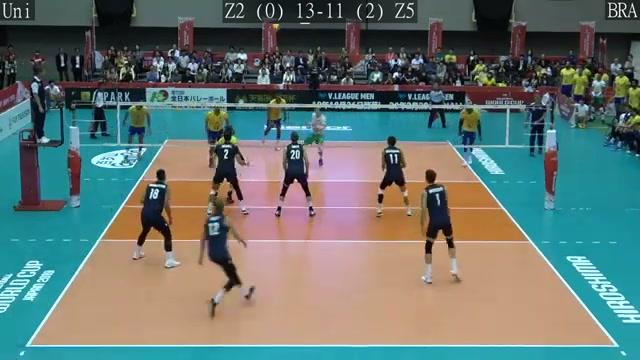ball: (269, 20, 281, 32)
